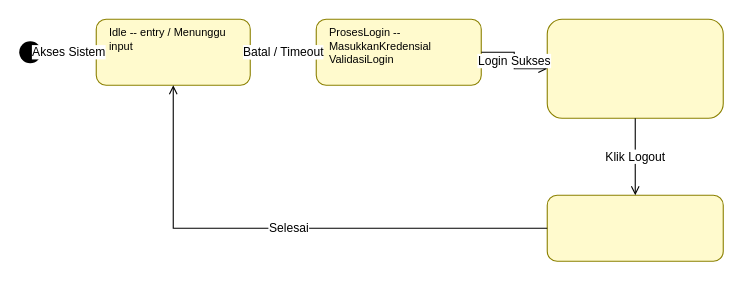
This 743x281 diagram has some shape labels left out. The centre of each missing label's shape, as x and y in pixels:
"Dashboard -- MenampilkanStatistik ManajemenData TrainingModel ProsesPrediksi" belongs at point (634, 68).
"LogoutState -- do / Hapus Session" belongs at point (634, 227).
